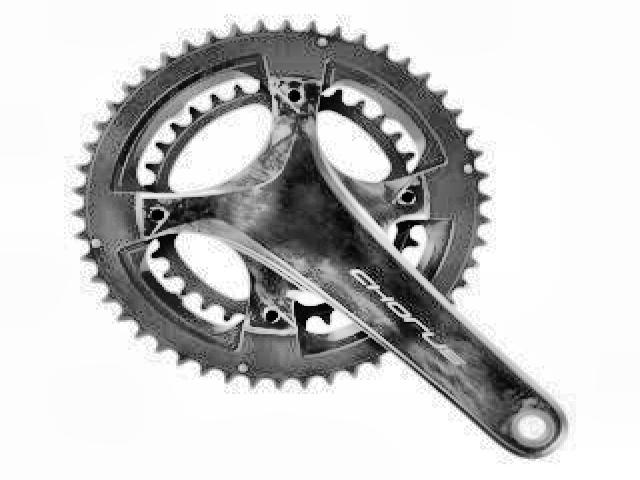cranks_set: (70, 21, 571, 464)
